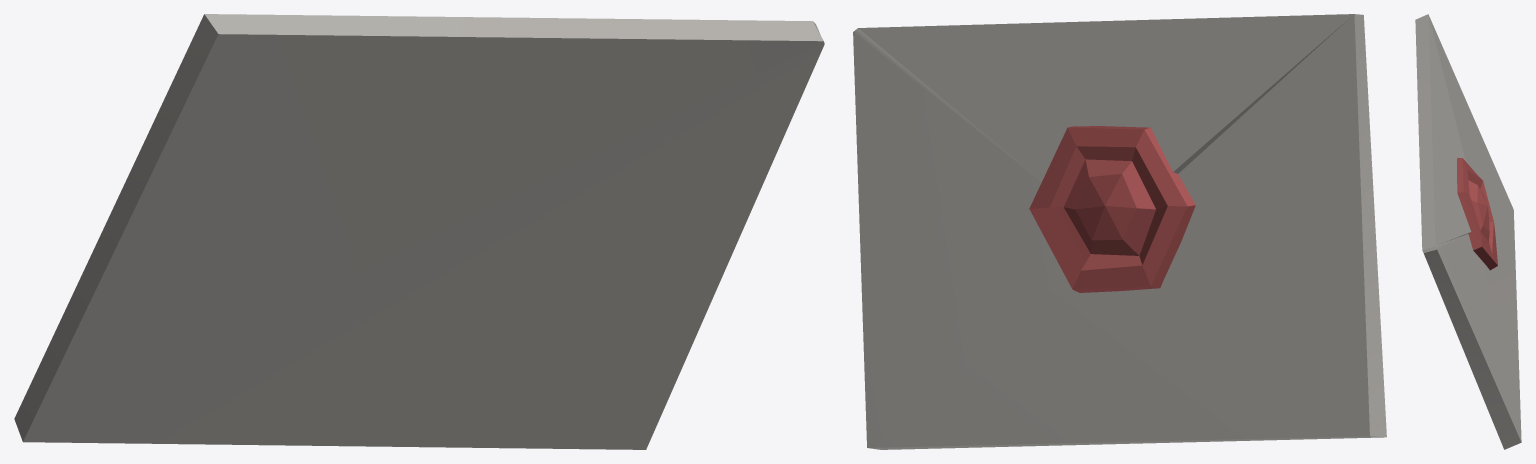
Rendered from questSealedLetter.fbx.
3 views of the same model, side by side, from view 1: azimuth 30°, elevation 25°; view 2: azimuth 150°, elevation 25°; view 3: azimuth 270°, elevation 25° (orthographic). The views are drawn at different scales.
Visible parts, largest first — view 1: questSealedLetter; view 2: questSealedLetter; view 3: questSealedLetter.
Part boxes in pixels (box(x1,y1,x2,y2)): questSealedLetter: box(14, 14, 824, 449); questSealedLetter: box(853, 14, 1386, 449); questSealedLetter: box(1415, 14, 1521, 449).
Bounding box in the file's own units: 1.69 × 1.36 × 0.4237.
